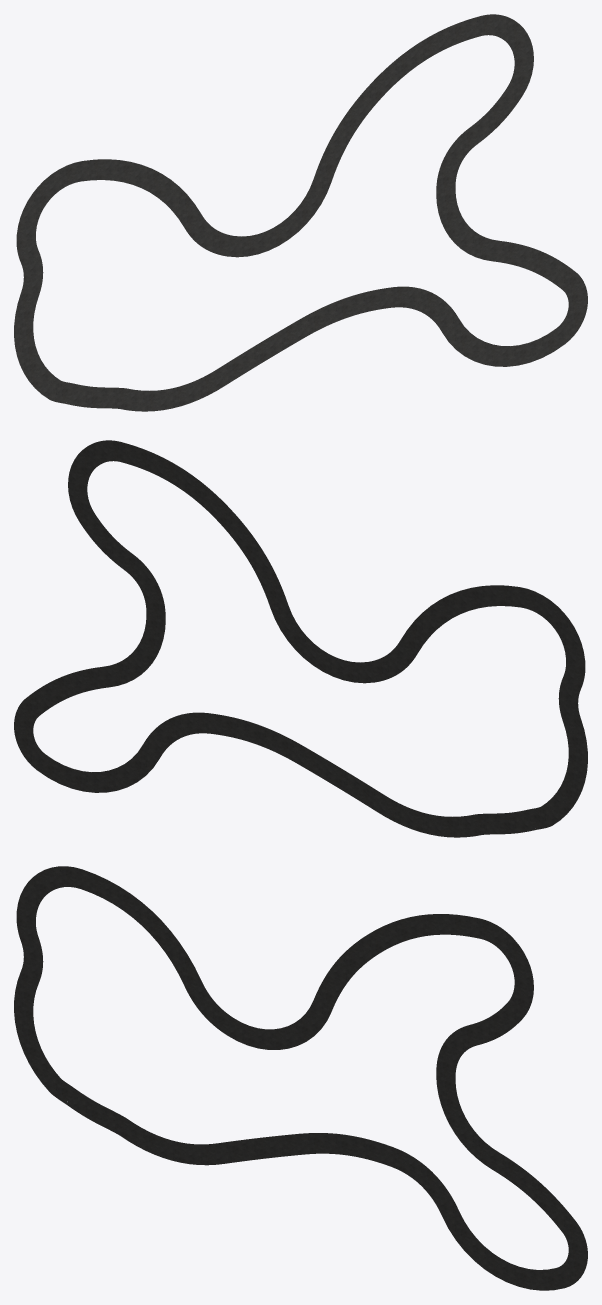
The model's file is track1_road.obj.
The picture shows the model from 3 angles, top to bottom: view 1: azimuth 30°, elevation 25°; view 2: azimuth 150°, elevation 25°; view 3: azimuth 330°, elevation 25°; orthographic projection.
Parts seen in each view (by area): view 1: road_0_curve_; view 2: road_0_curve_; view 3: road_0_curve_.
Boxes of the visible parts, bbox=[...] form: road_0_curve_: bbox=[14, 14, 587, 411]; road_0_curve_: bbox=[14, 440, 587, 837]; road_0_curve_: bbox=[14, 866, 587, 1290].
Size of the model in its own units: 48.58 by 29.02 by 0.
Materials: 1 (1 with a texture image).
